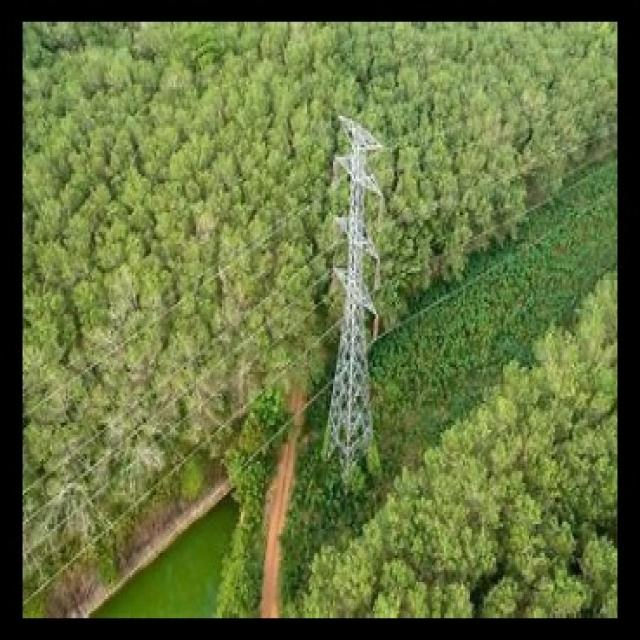utility poles: (315, 94, 396, 480)
